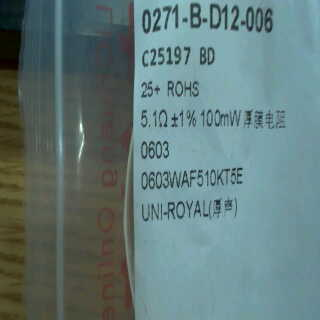5.1R: (135, 105, 175, 138)
